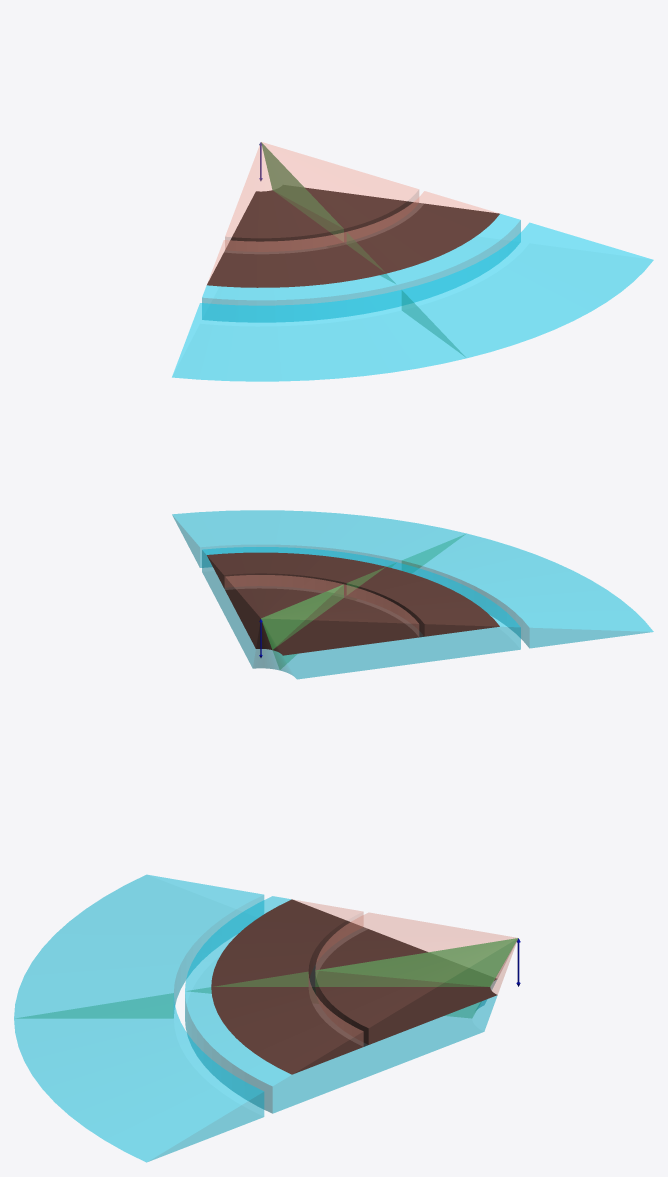
The model's file is area_10.glb.
3 renders of one model, top to bottom at view 1: azimuth 30°, elevation 25°; view 2: azimuth 150°, elevation 25°; view 3: azimuth 270°, elevation 25°, orthographic. The views are drawn at different scales.
Visible parts, largest first — view 1: defaultobject.001, defaultobject; view 2: defaultobject.001, defaultobject; view 3: defaultobject.001, defaultobject.
Boxes of the visible parts, x1,y1,x2,y2 form: defaultobject.001: (172,188,653,381); defaultobject: (207,142,499,287); defaultobject.001: (172,510,653,679); defaultobject: (207,552,499,655); defaultobject.001: (14,874,497,1162); defaultobject: (211,899,518,1074).
Bounding box in the file's own units: 50.33 × 10.57 × 47.25.
